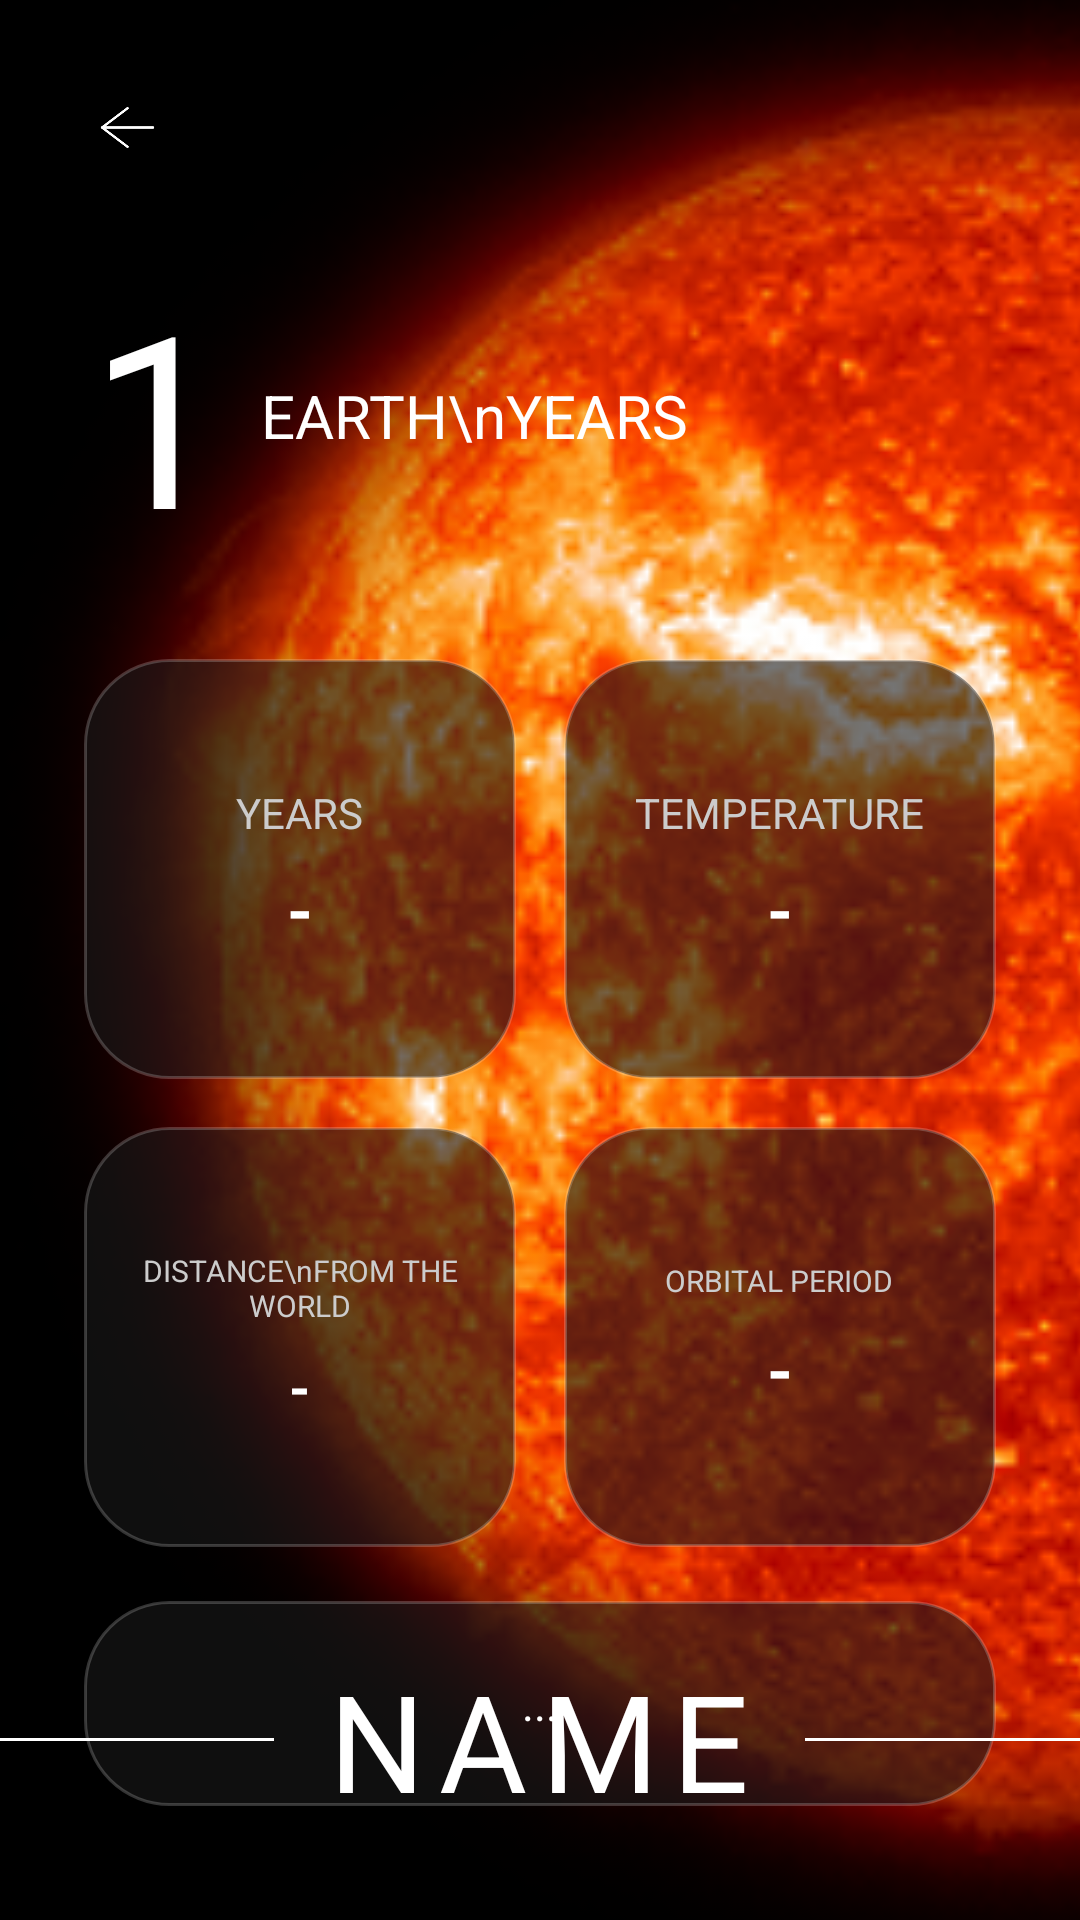

Icon bounding boxes for this 1080×1920 phone screenshot, format (x1, y1, x2, y2):
back: (101, 107, 154, 148)
